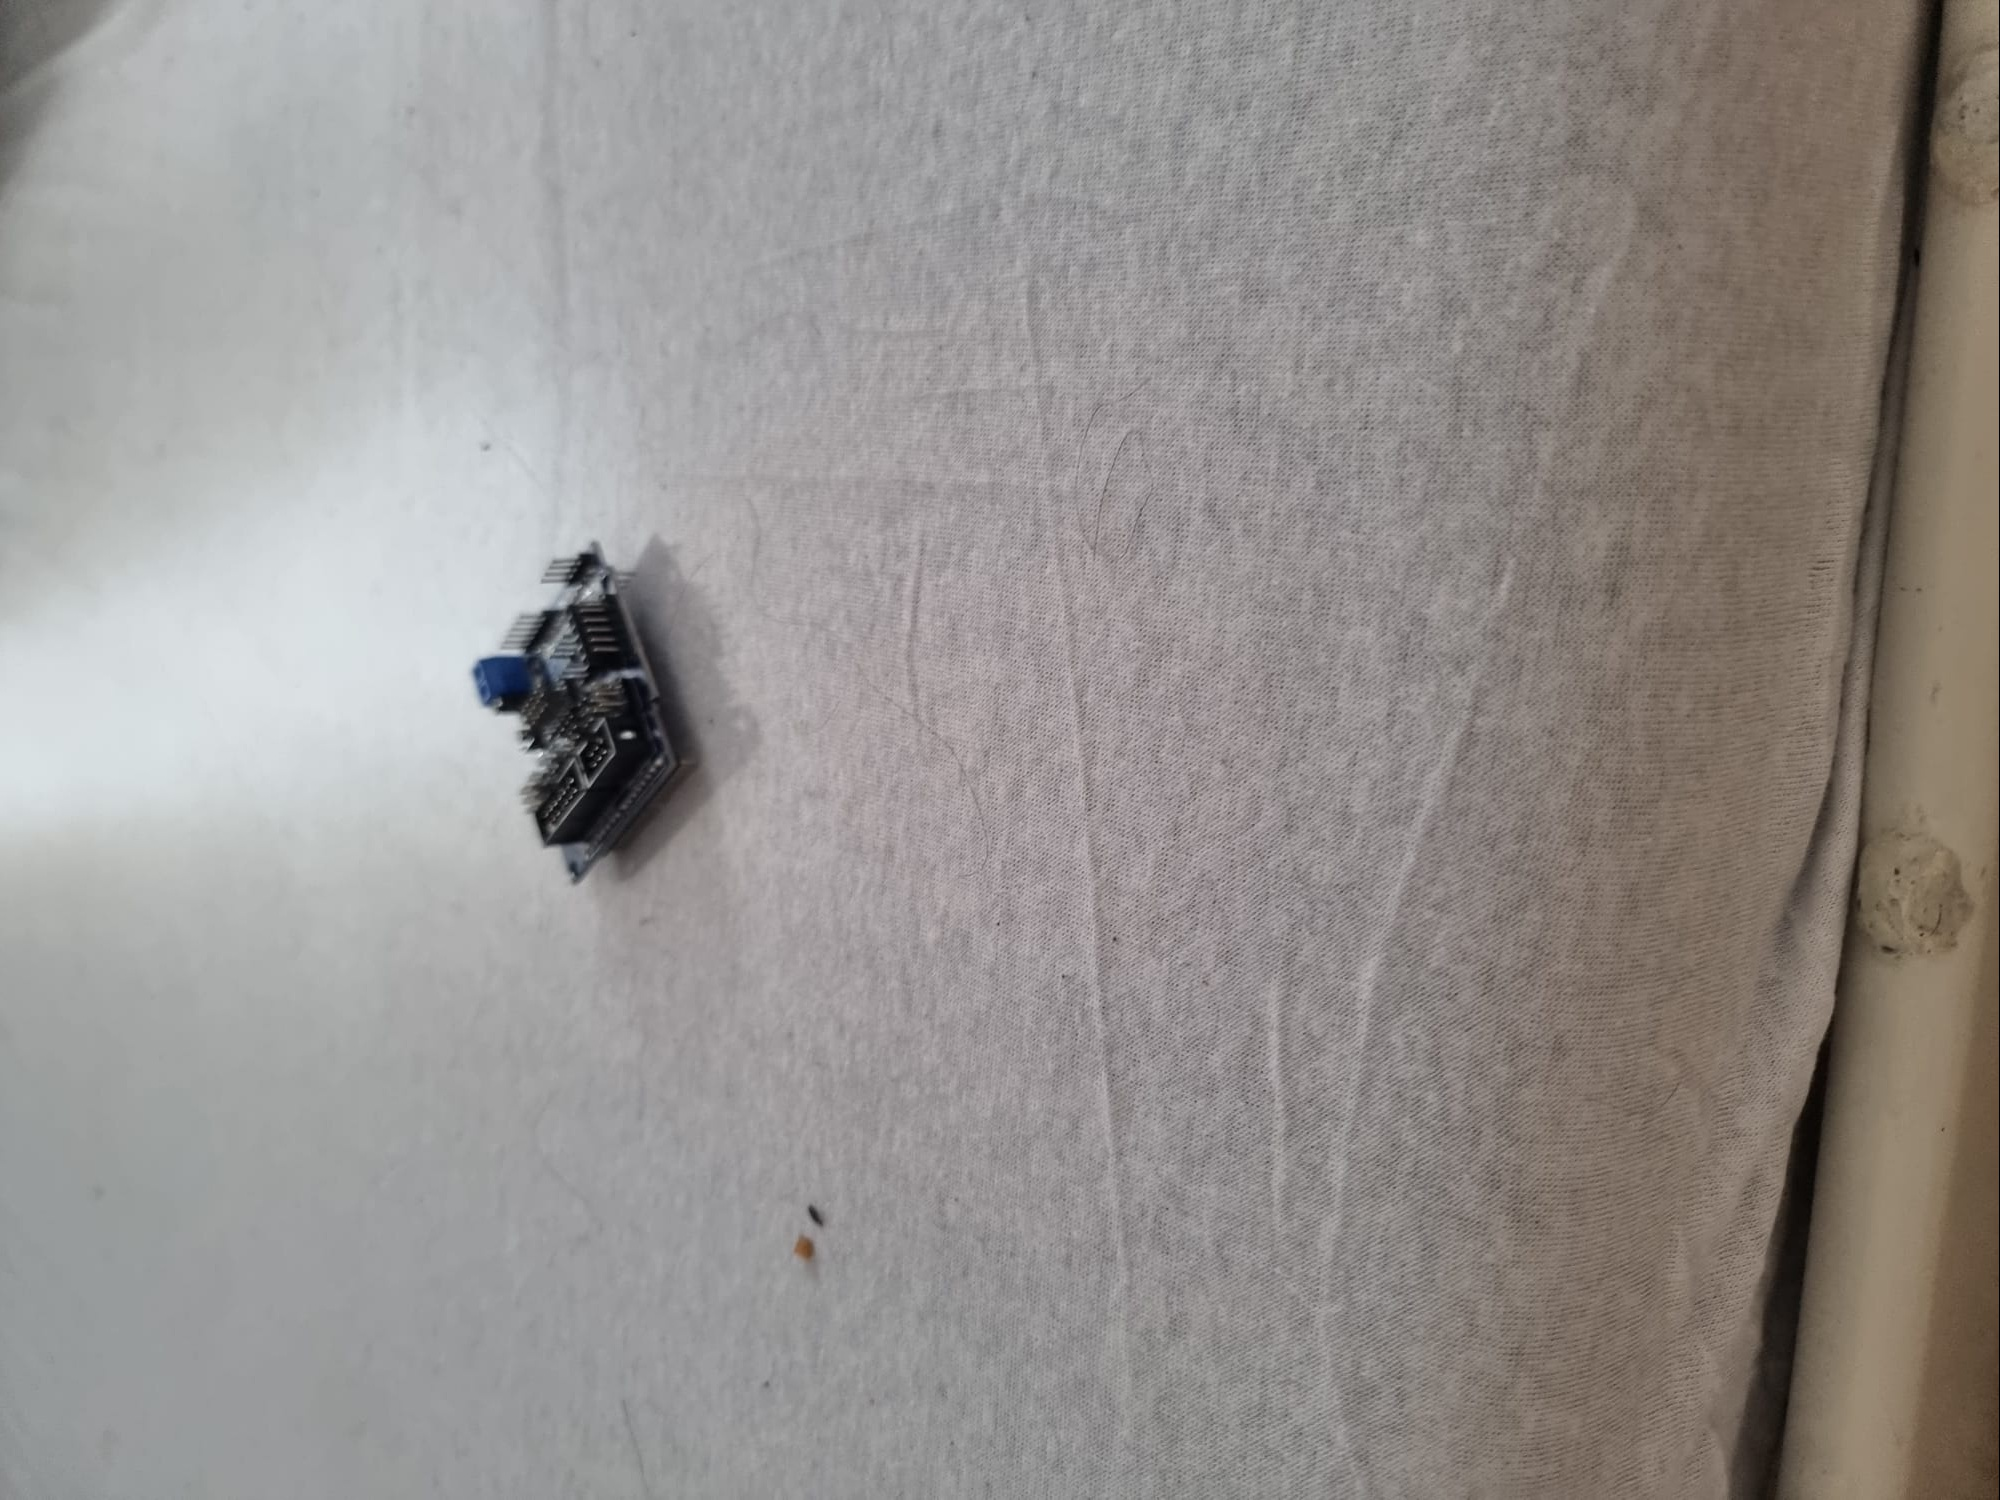5V EXPANSION: (469, 537, 685, 895)
